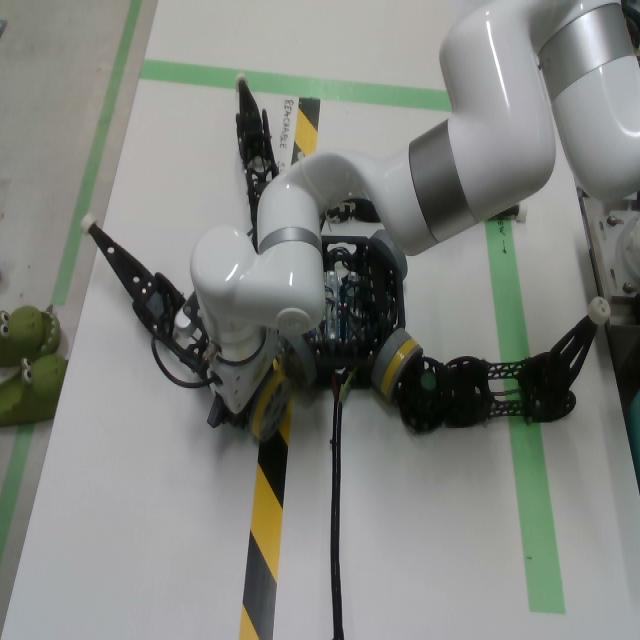body: (304, 236, 406, 385)
body_connector: (275, 333, 318, 392), (371, 328, 411, 389), (370, 229, 409, 281)
gripper: (207, 329, 276, 428)
leg: (380, 297, 611, 431), (79, 211, 209, 381), (235, 71, 280, 249), (244, 367, 292, 443), (325, 197, 381, 224), (492, 200, 528, 223)
leg_connector: (249, 373, 292, 443), (380, 339, 423, 401)
leg_marker: (421, 372, 436, 391)
